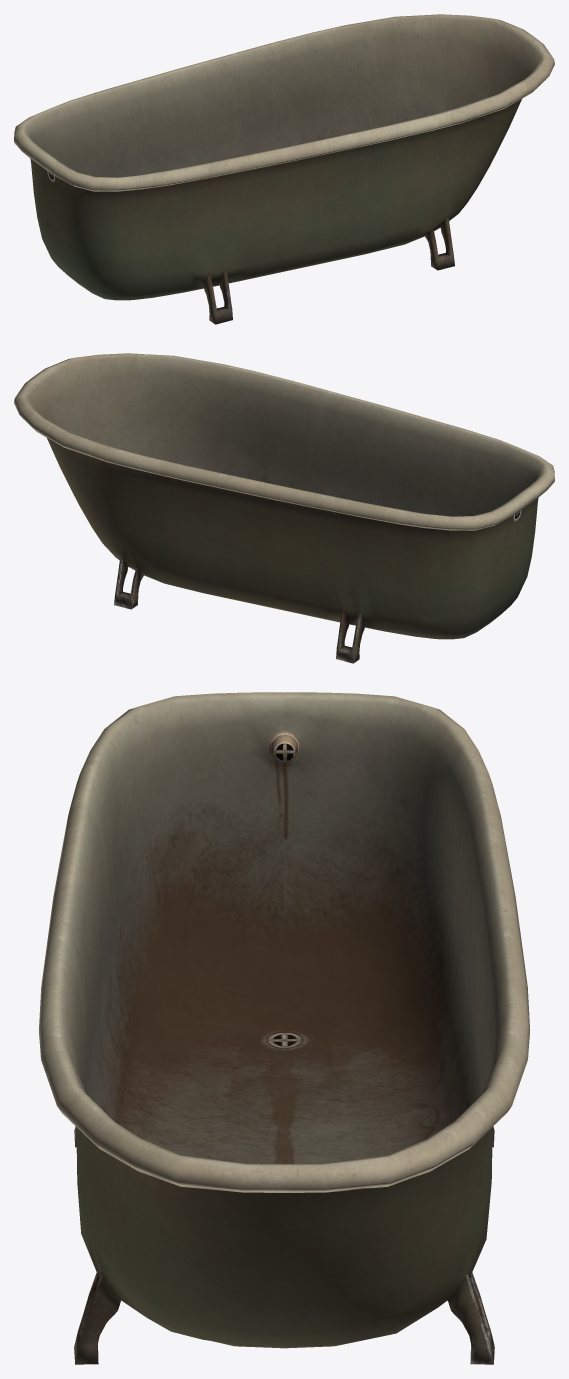
The picture shows the model from 3 angles, top to bottom: view 1: azimuth 30°, elevation 25°; view 2: azimuth 150°, elevation 25°; view 3: azimuth 270°, elevation 25°; orthographic projection. The views are drawn at different scales.
Visible parts, largest first — view 1: Object_2; view 2: Object_2; view 3: Object_2.
Part boxes in pixels (x1,y1,x2,y2): Object_2: (14, 14, 554, 324); Object_2: (14, 353, 554, 663); Object_2: (39, 692, 529, 1364).
Size of the model in its own units: 1150 by 357 by 493.
1 material, 1 textured.
